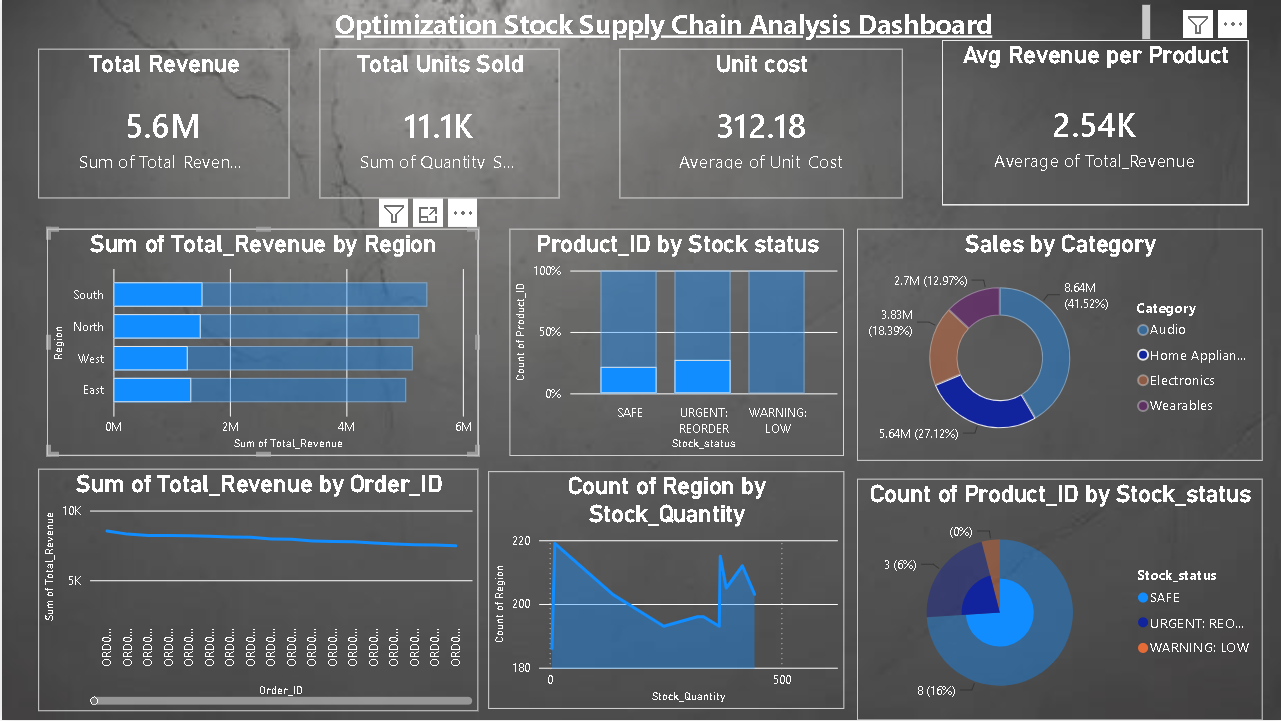

The page's visual inventory and layout, read from the dashboard file:
{"tool":"powerbi","page":{"name":"Page 1","canvas":[1280,720],"ordinal":0},"visuals":[{"type":"cardVisual","title":"Total Revenue","fields":{"Data":["Sum(raw_sales.Total_Revenue)"]},"box":[36.2,48.3,250.9,149.6],"z":0},{"type":"cardVisual","title":"Total Units Sold","fields":{"Data":["Sum(raw_sales.Quantity_Sold)"]},"box":[317.3,48.3,240.1,149.6],"z":1000},{"type":"clusteredBarChart","fields":{"Category":["raw_sales.Region"],"Y":["Sum(raw_sales.Total_Revenue)"]},"box":[44.6,229.2,431.9,226.8],"z":2000},{"type":"donutChart","title":"Sales by Category","fields":{"Category":["raw_inventory.Category"],"Y":["Sum(raw_sales.Total_Revenue)"]},"box":[855.4,229.2,405.4,231.6],"z":3000},{"type":"lineChart","fields":{"Category":["raw_sales.Order_ID"],"Y":["Sum(raw_sales.Total_Revenue)"]},"box":[36.2,469.3,440.4,242.5],"z":4000},{"type":"pieChart","fields":{"Category":["raw_inventory.Stock_status"],"Y":["CountNonNull(raw_inventory.Product_ID)"]},"box":[855.4,479,405.4,241.3],"z":5000},{"type":"cardVisual","title":"Unit cost","fields":{"Data":["Avg(raw_inventory.Unit_Cost)"]},"box":[617.7,48.3,283.5,149.6],"z":6000},{"type":"cardVisual","title":"Avg Revenue per Product","fields":{"Data":["Avg(raw_sales.Total_Revenue)"]},"box":[939.8,39.8,306.4,165.3],"z":7000},{"type":"textbox","box":[105,0,1048.3,45],"z":8000},{"type":"areaChart","fields":{"Category":["raw_inventory.Stock_Quantity"],"Y":["CountNonNull(raw_sales.Region)"]},"box":[486.2,471.7,355.9,237.7],"z":9000},{"type":"hundredPercentStackedColumnChart","title":"Product_ID by Stock status","fields":{"Y":["Count(raw_inventory.Product_ID)"],"Category":["raw_inventory.Stock_status"]},"box":[507.9,229.2,334.2,226.8],"z":10000}]}

Visuals, with their boxes in screenshot pixels (x1, y1, x2, y2), scaled from the page's 1280x720 canvas onto the 1281x721 screenshot:
"Total Revenue" cardVisual: <region>36, 48, 287, 198</region>
"Total Units Sold" cardVisual: <region>318, 48, 558, 198</region>
clusteredBarChart - raw_sales.Region x Sum(raw_sales.Total_Revenue): <region>45, 230, 477, 457</region>
"Sales by Category" donutChart: <region>856, 230, 1262, 461</region>
lineChart - raw_sales.Order_ID x Sum(raw_sales.Total_Revenue): <region>36, 470, 477, 713</region>
pieChart - raw_inventory.Stock_status x CountNonNull(raw_inventory.Product_ID): <region>856, 480, 1262, 720</region>
"Unit cost" cardVisual: <region>618, 48, 902, 198</region>
"Avg Revenue per Product" cardVisual: <region>941, 40, 1247, 205</region>
textbox: <region>105, 0, 1154, 45</region>
areaChart - raw_inventory.Stock_Quantity x CountNonNull(raw_sales.Region): <region>487, 472, 843, 710</region>
"Product_ID by Stock status" hundredPercentStackedColumnChart: <region>508, 230, 843, 457</region>
